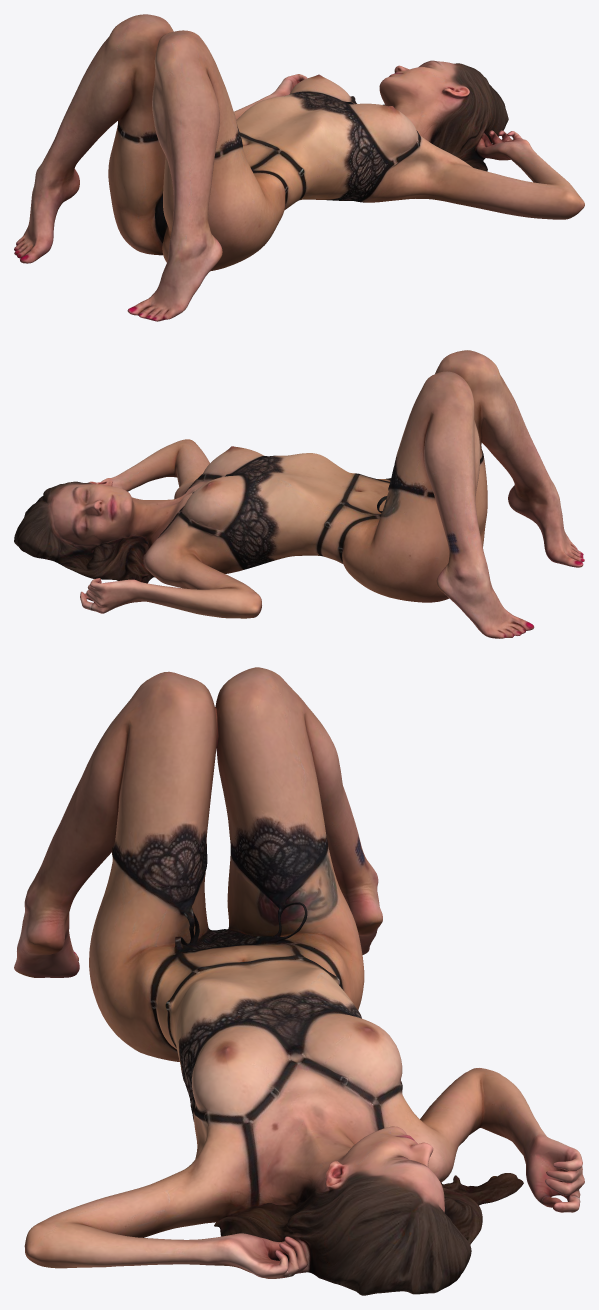
3 views of the same model, one above another, from view 1: azimuth 30°, elevation 25°; view 2: azimuth 150°, elevation 25°; view 3: azimuth 270°, elevation 25° (orthographic). The views are drawn at different scales.
Parts seen in each view (by area): view 1: kateNst_041KZMH_(1)_1; view 2: kateNst_041KZMH_(1)_1; view 3: kateNst_041KZMH_(1)_1.
Part boxes in pixels (x1,y1,x2,y2): kateNst_041KZMH_(1)_1: (14,14,584,321); kateNst_041KZMH_(1)_1: (14,350,584,638); kateNst_041KZMH_(1)_1: (14,667,584,1295).
Bounding box in the file's own units: 9.25 × 4.11 × 6.15.
1 material, 1 textured.
